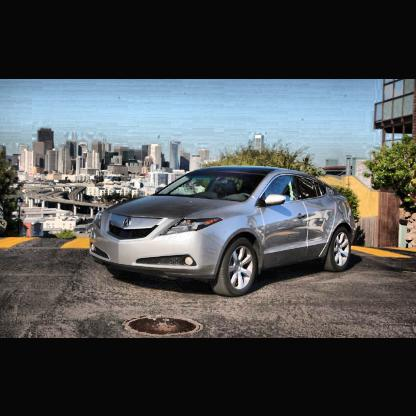Acura ZDX Hatchback 2012: (91, 167, 358, 299)
